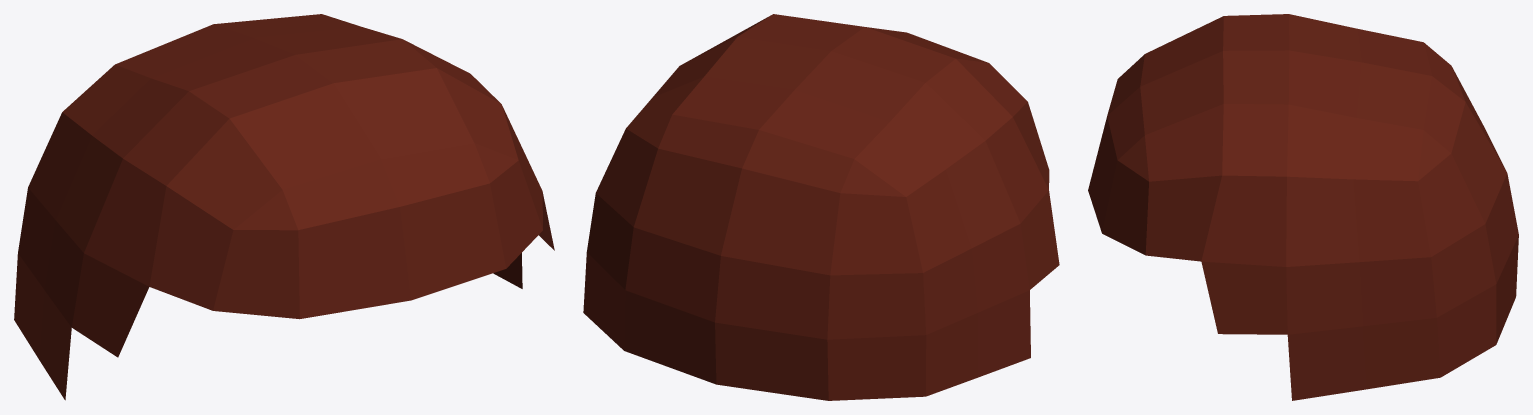
Rendered from Hair1.fbx.
3 renders of one model, left to right at view 1: azimuth 30°, elevation 25°; view 2: azimuth 150°, elevation 25°; view 3: azimuth 270°, elevation 25°, orthographic. The views are drawn at different scales.
Parts seen in each view (by area): view 1: Hair2; view 2: Hair2; view 3: Hair2.
Part boxes in pixels (x1,y1,x2,y2): Hair2: (14, 14, 554, 400); Hair2: (583, 14, 1059, 400); Hair2: (1088, 14, 1518, 400).
Bounding box in the file's own units: 84.77 × 51.68 × 79.58.
